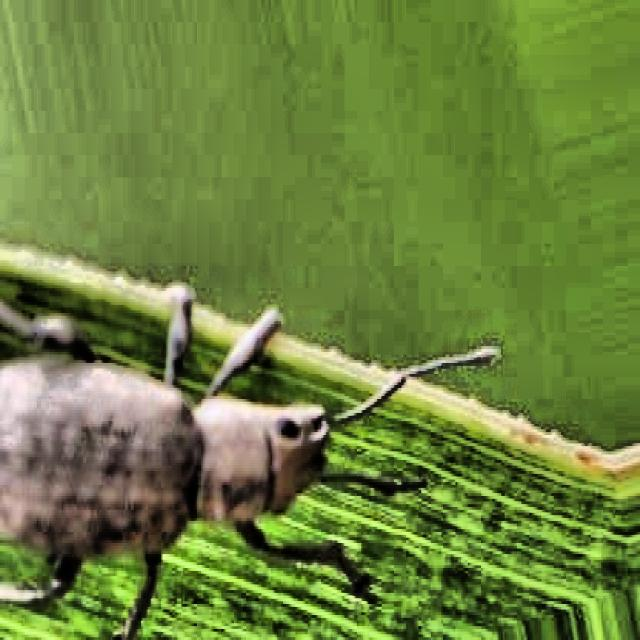Stink bug: (1, 238, 396, 640)
